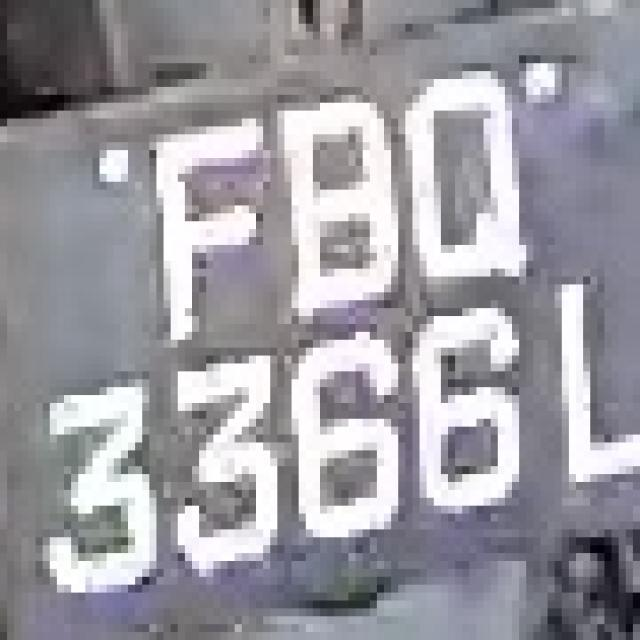3: (150, 332, 292, 569), (36, 348, 156, 624)
6: (398, 285, 519, 553), (298, 332, 419, 561)
B: (249, 79, 398, 348)
F: (128, 102, 270, 356)
L: (533, 269, 640, 490)
Q: (398, 64, 548, 292)
